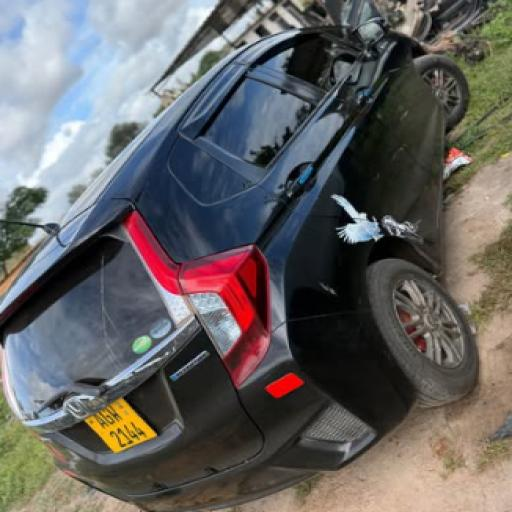number-plates: (84, 379, 150, 448)
